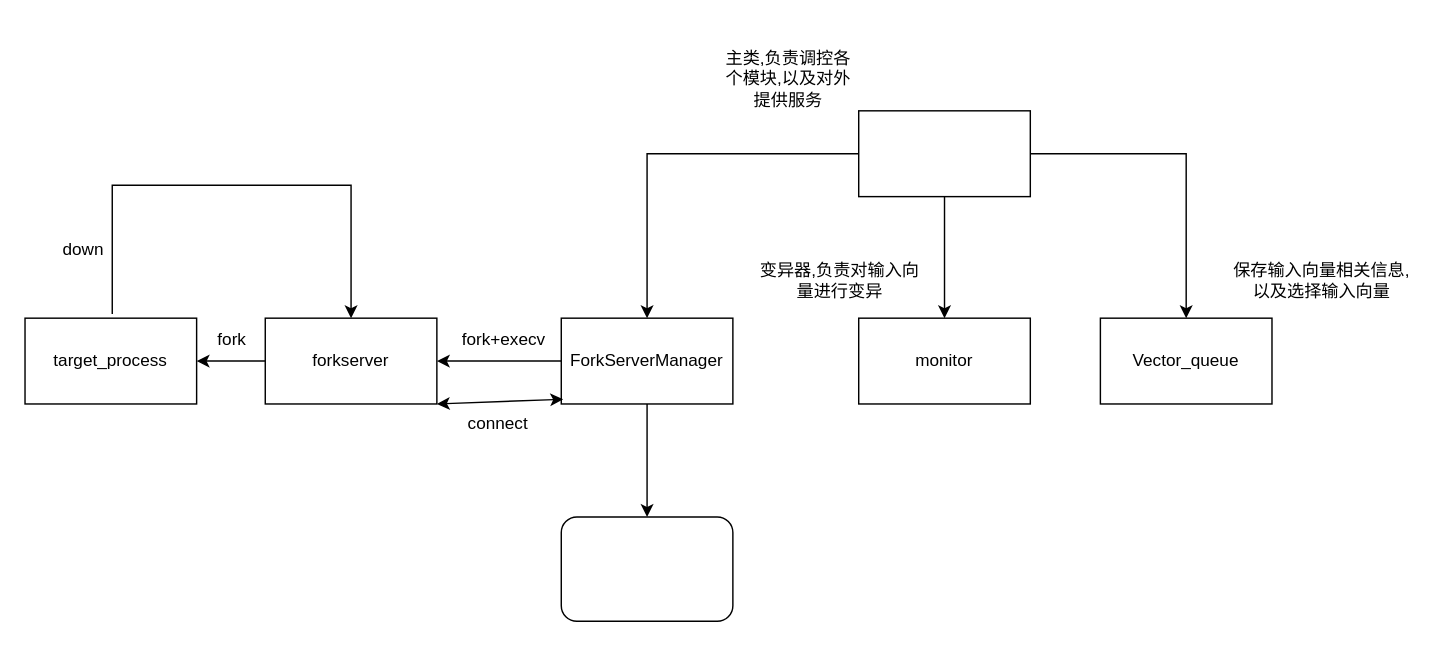
Image size: 1441x646. Some labels were removed from this diagram. Here are the shapes that lost their labels. From the top down, the centre of each, then its label:
At (x=943, y=153): "DFM".
At (x=646, y=568): "启动目标程序,与目标程序中的server交互.等待DFM发送信号.".
